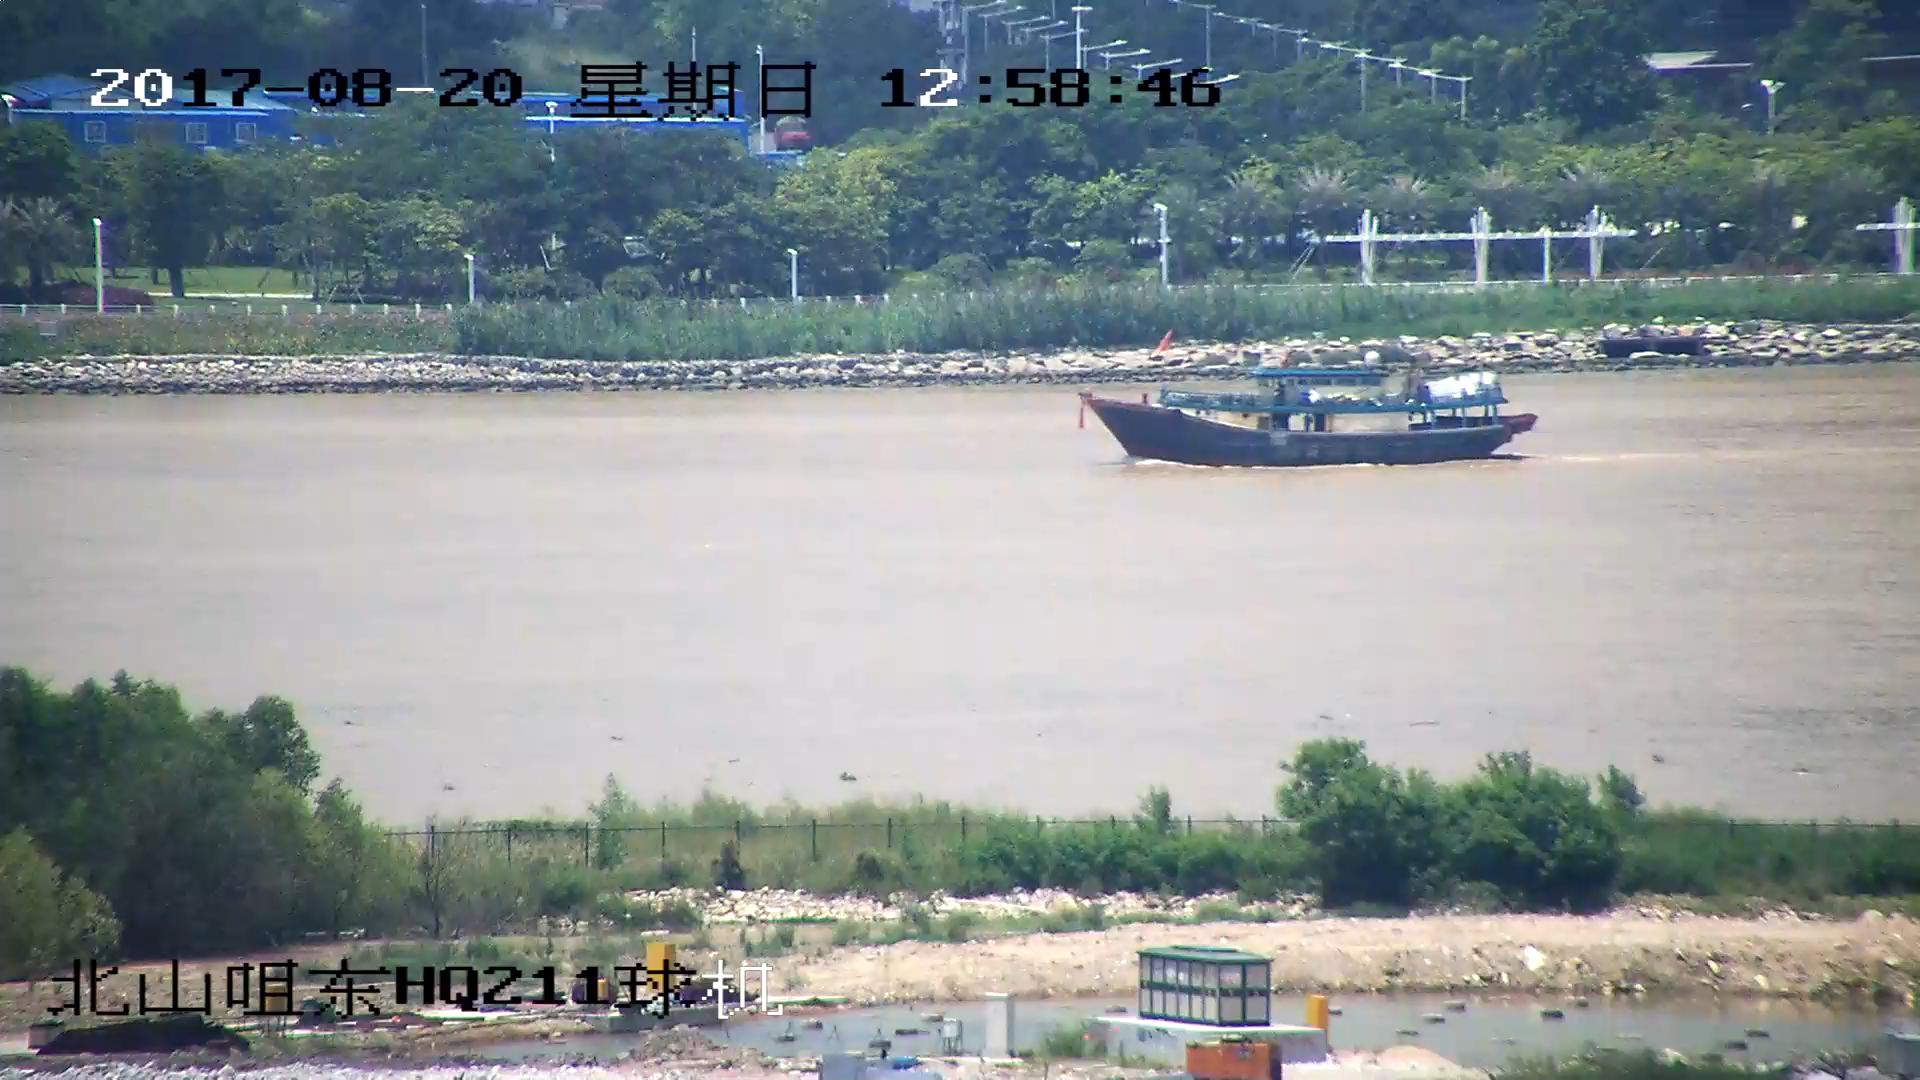fishing boat: (1084, 365, 1537, 467)
